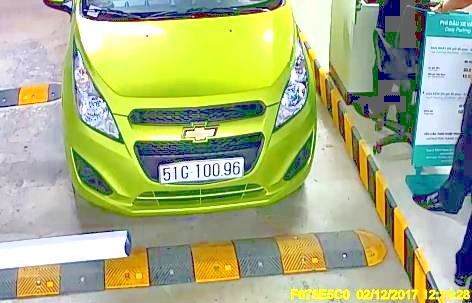plate: (157, 158, 242, 180)
